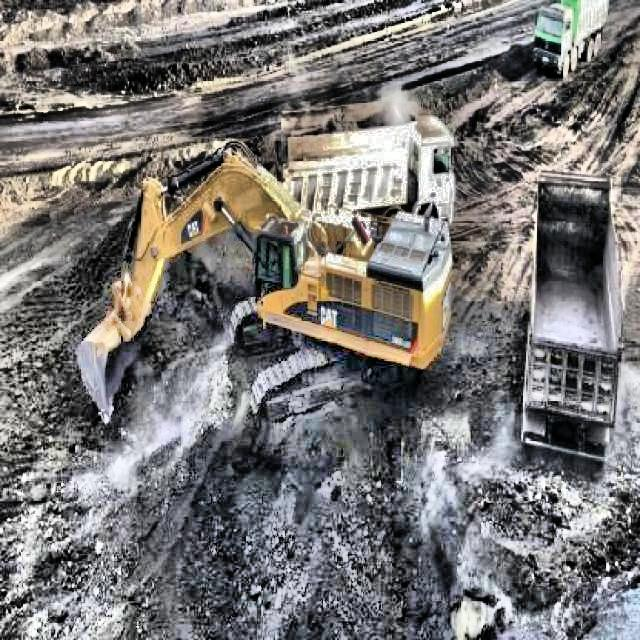dump_truck: (517, 163, 626, 464), (270, 111, 456, 226), (530, 0, 609, 78)
excavator: (69, 142, 454, 436)
